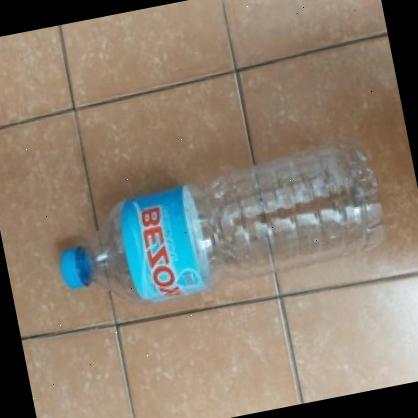bottle: (42, 131, 403, 318)
cap: (51, 237, 94, 296)
label: (124, 180, 208, 312)
